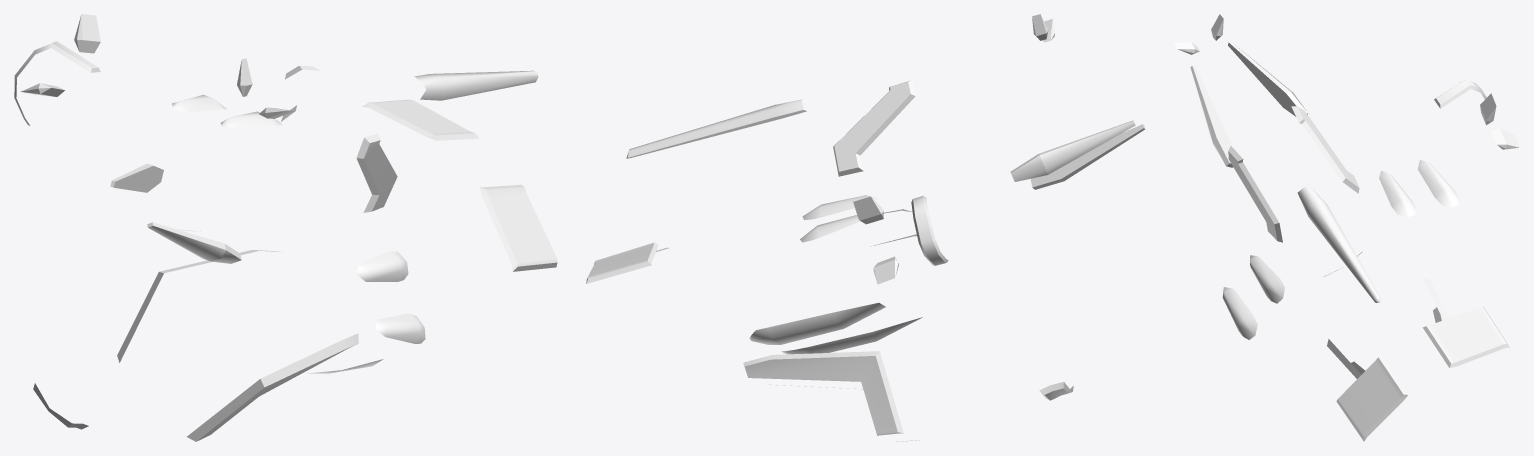
The model's file is prop_static_ama_shipwreck_01_05.glb.
3 renders of one model, left to right at view 1: azimuth 30°, elevation 25°; view 2: azimuth 150°, elevation 25°; view 3: azimuth 270°, elevation 25°, orthographic. The views are drawn at different scales.
Parts seen in each view (by area): view 1: ama_ship_wreck_01_05_LOD0; view 2: ama_ship_wreck_01_05_LOD0; view 3: ama_ship_wreck_01_05_LOD0.
Part boxes in pixels (left/top/right/bottom): ama_ship_wreck_01_05_LOD0: left=14, top=14, right=557, bottom=441; ama_ship_wreck_01_05_LOD0: left=586, top=14, right=1145, bottom=441; ama_ship_wreck_01_05_LOD0: left=1174, top=14, right=1519, bottom=441.
Size of what is drawn, in the model's own units: 6.14 by 5.12 by 4.65.
Materials: 1 (1 with a texture image).
